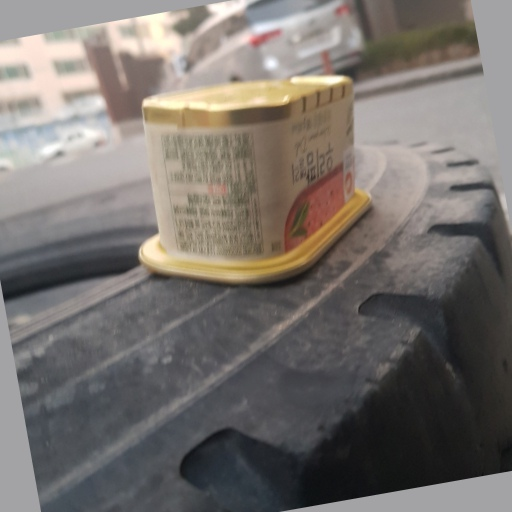Metal_2: (135, 73, 373, 284)
